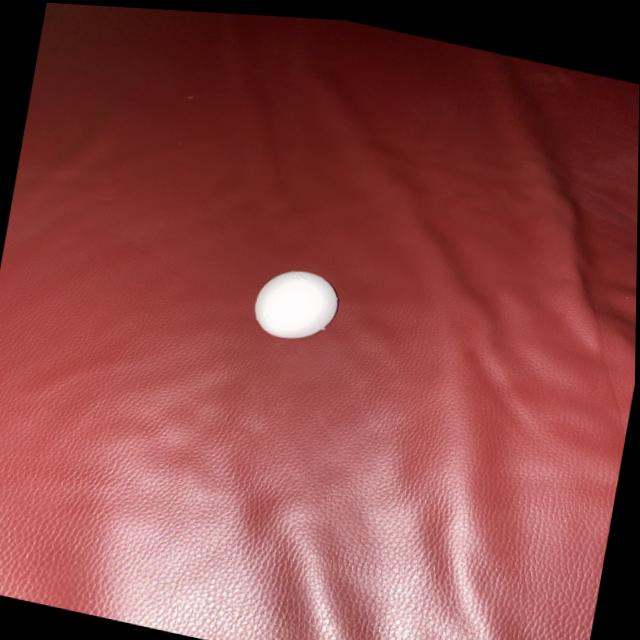egg: (243, 248, 351, 350)
